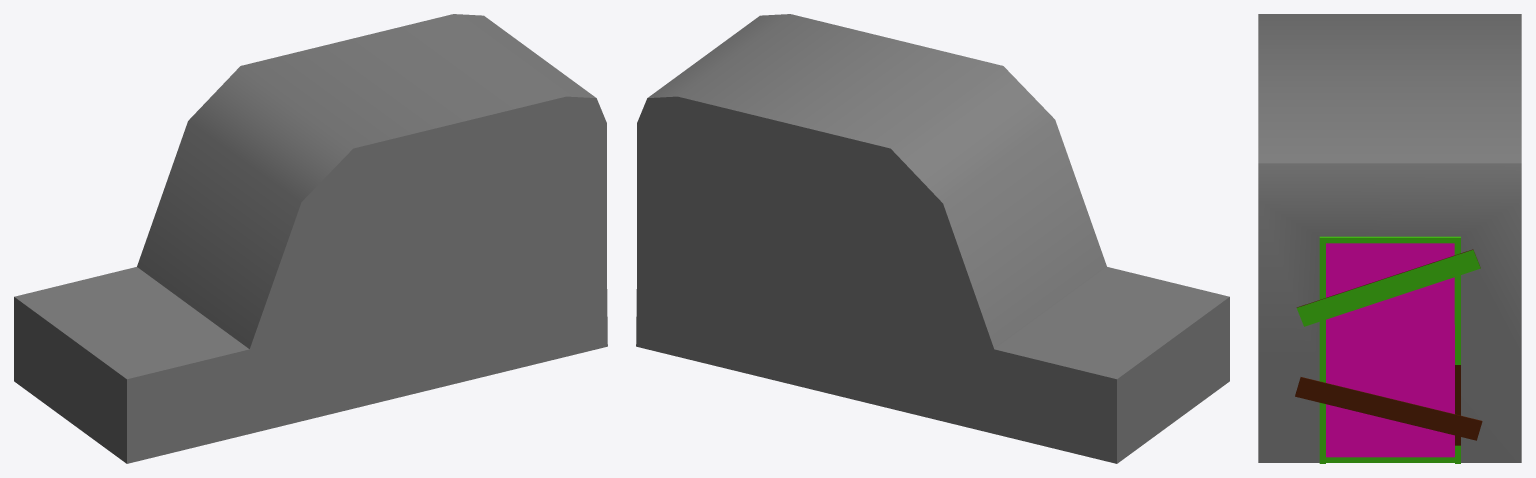
Rendered from FBX_CageEscalier.fbx.
3 renders of one model, left to right at view 1: azimuth 30°, elevation 25°; view 2: azimuth 150°, elevation 25°; view 3: azimuth 270°, elevation 25°, orthographic. The views are drawn at different scales.
Visible parts, largest first — view 1: Box004; view 2: Box004; view 3: Box004.
Part boxes in pixels (<box>): Box004: <box>14,14,607,463</box>; Box004: <box>636,14,1229,463</box>; Box004: <box>1258,14,1521,463</box>.
Bounding box in the file's own units: 5.9 × 3.03 × 2.38.
